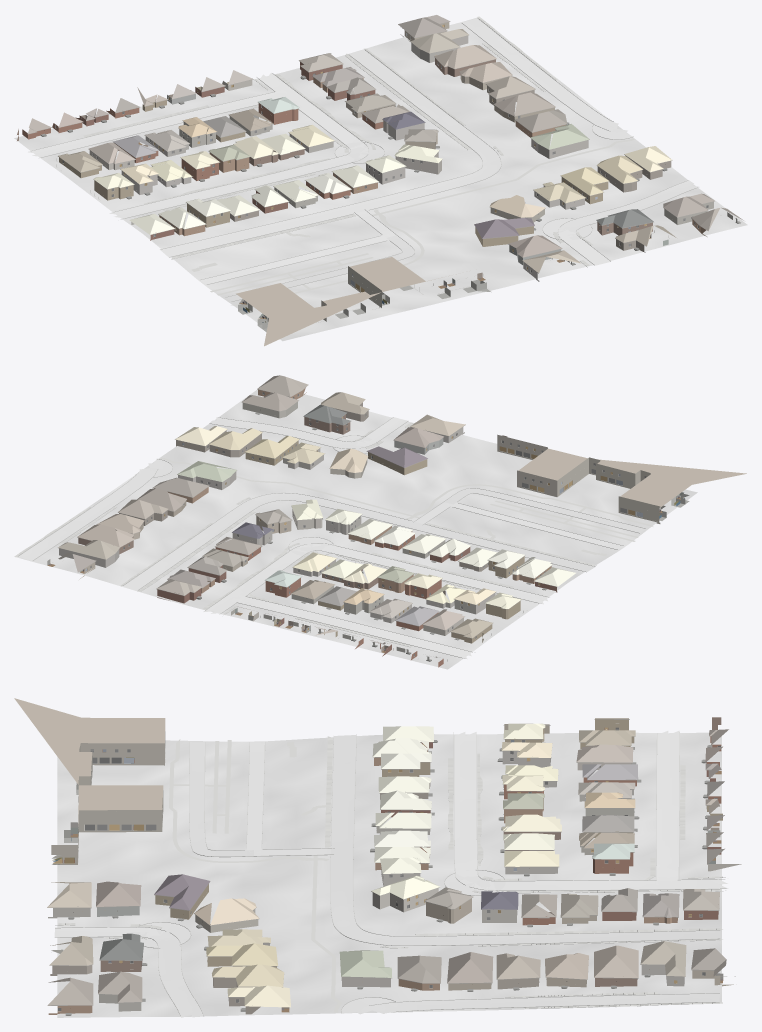
The picture shows the model from 3 angles, top to bottom: view 1: azimuth 30°, elevation 25°; view 2: azimuth 150°, elevation 25°; view 3: azimuth 270°, elevation 25°; orthographic projection. The views are drawn at different scales.
Parts seen in each view (by area): view 1: ground, roof, concrete, wall, walk, roof_flat, curb, detail, wall_stucco, wall_stone, room, wall_com (+1 smaller); view 2: ground, roof, concrete, wall, walk, curb, roof_flat, wall_com, detail, wall_stone, wall_stucco, glass (+2 smaller); view 3: ground, roof, concrete, wall, walk, roof_flat, curb, detail, wall_stucco, wall_com, wall_stone, glass (+2 smaller).
Part boxes in pixels (<box>): ground: <box>14,17,747,341</box>; roof: <box>27,15,743,273</box>; concrete: <box>28,18,698,301</box>; wall: <box>17,58,706,252</box>; walk: <box>83,16,634,305</box>; roof_flat: <box>236,257,456,346</box>; curb: <box>30,18,698,301</box>; detail: <box>28,21,740,322</box>; wall_stucco: <box>89,22,713,264</box>; wall_stone: <box>121,35,588,281</box>; room: <box>81,82,668,331</box>; wall_com: <box>321,266,381,321</box>; ground: <box>17,389,697,669</box>; roof: <box>58,375,575,657</box>; concrete: <box>18,417,645,659</box>; wall: <box>78,388,557,667</box>; walk: <box>14,422,653,647</box>; curb: <box>18,417,645,658</box>; roof_flat: <box>518,448,746,507</box>; wall_com: <box>497,434,660,523</box>; detail: <box>52,387,637,661</box>; wall_stone: <box>59,427,495,623</box>; wall_stucco: <box>79,402,463,635</box>; glass: <box>90,392,646,656</box>; ground: <box>57,732,721,1017</box>; roof: <box>47,723,728,1007</box>; concrete: <box>54,730,728,1017</box>; wall: <box>48,717,722,1014</box>; walk: <box>58,736,722,1012</box>; roof_flat: <box>14,698,165,837</box>; curb: <box>55,732,726,1016</box>; detail: <box>47,719,735,1015</box>; wall_stucco: <box>97,763,741,1011</box>; wall_com: <box>51,731,165,864</box>; wall_stone: <box>48,751,684,987</box>; glass: <box>58,727,722,1010</box>.
Bounding box in the file's own units: 271 × 16.71 × 276.
